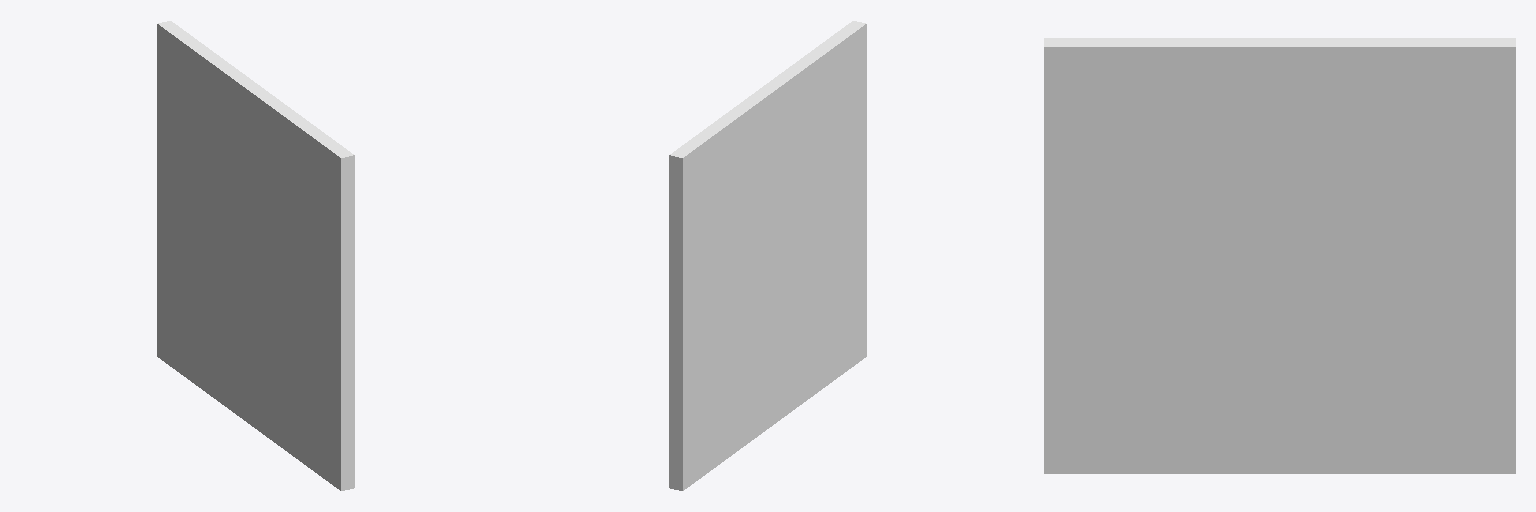
robot.urdf — wall:
<?xml version="1.0"?>

<robot name="wall">
  <link name="wall">
    <collision>
      <origin xyz="0 0 0"/>
      <geometry>
        <box size="0.05 1.2 1.2" />
      </geometry>
    </collision>
    <inertial>
      <origin xyz="0 0 0" />
      <mass value="1.0" />
      <inertia  ixx="0.00003375" ixy="0.0"  ixz="0.0"  iyy="0.00003375"  iyz="0.0"  izz="0.00003375" />
    </inertial>
    <visual>
      <origin xyz="0 0 0"/>
      <geometry>
        <box size="0.05 1.20 1.20" />
      </geometry>
      <material name="white">
        <color rgba="0.99 0.99 0.99 1.0"/>
      </material>
    </visual>  
  </link>
</robot>

--- Facts derived from the render (not from the file) ---
The picture shows the robot from 3 angles, left to right: view 1: azimuth 30°, elevation 25°; view 2: azimuth 150°, elevation 25°; view 3: azimuth 270°, elevation 25°; orthographic projection.
Robot: wall — 1 links, 0 joints (none); root link wall; default pose: all joints at 0.
Links seen in each view (by area): view 1: wall; view 2: wall; view 3: wall.
Link boxes in pixels (x1,y1,x2,y2): wall: (157,21,354,490); wall: (669,21,866,490); wall: (1044,38,1515,473).
Size in the robot's own frame: 0.05 by 1.2 by 1.2 metres.
Geometry: primitives only (box / cylinder / sphere), no mesh files.